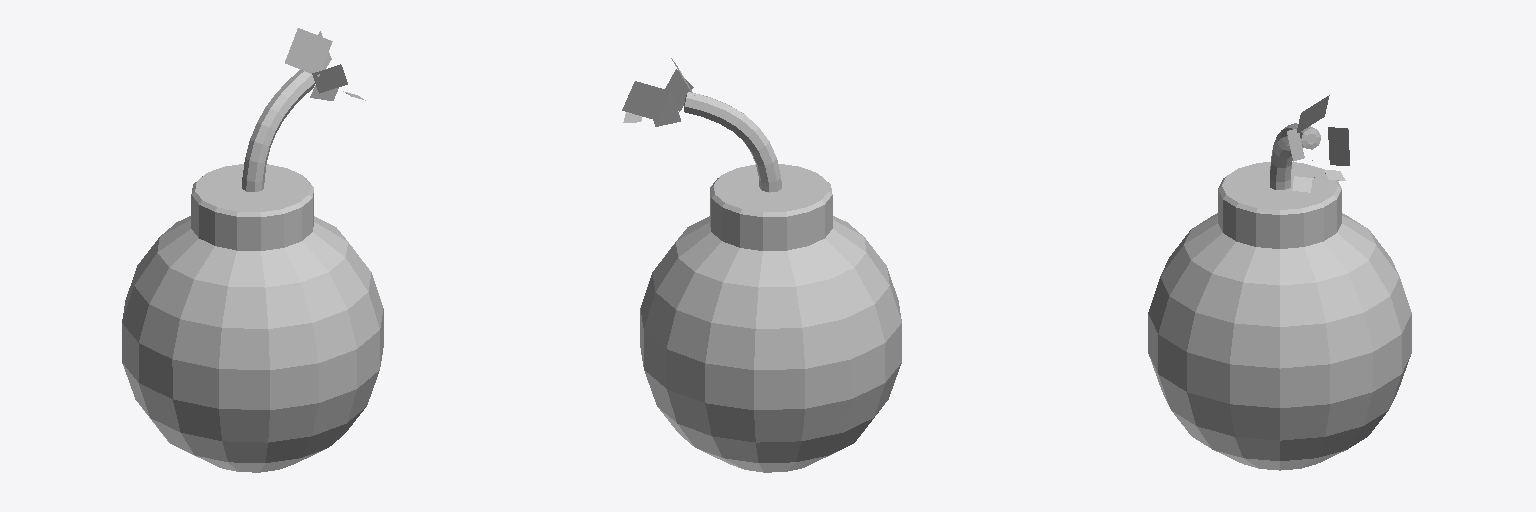
File: bomb_000014.obj
The picture shows the model from 3 angles: view 1: azimuth 30°, elevation 25°; view 2: azimuth 150°, elevation 25°; view 3: azimuth 270°, elevation 25°; orthographic projection.
Visible parts, largest first — view 1: Sphere, NurbsPath, Plane_5.001_Mesh.001; view 2: Sphere, NurbsPath, Plane_5.001_Mesh.001; view 3: Sphere, Plane_5.001_Mesh.001, NurbsPath.
Part boxes in pixels (x1,y1,x2,y2): Sphere: (122, 164, 383, 472); NurbsPath: (242, 70, 315, 191); Plane_5.001_Mesh.001: (285, 28, 365, 100); Sphere: (640, 164, 901, 472); NurbsPath: (684, 92, 781, 192); Plane_5.001_Mesh.001: (622, 58, 694, 126); Sphere: (1148, 162, 1411, 470); Plane_5.001_Mesh.001: (1287, 95, 1349, 192); NurbsPath: (1270, 123, 1320, 189).
Size of the model in its own units: 0.9215 by 1.45 by 0.8964.